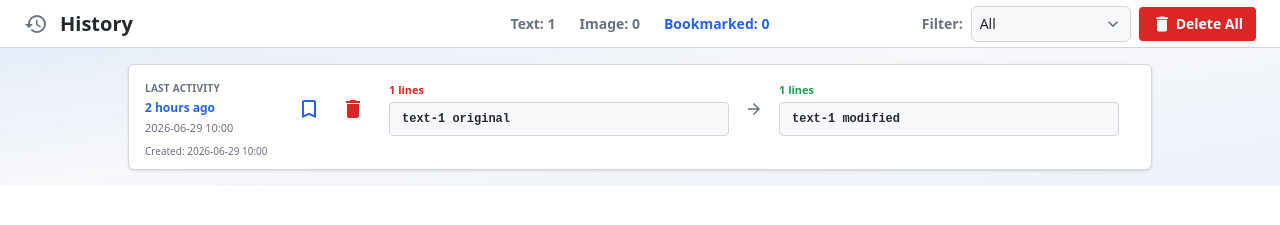
Test: HistoryView › shows a filtered empty state when there are no matching items
The image size is (1280, 225).
Step 1. Click the button "All" → (1051, 24), box left=971, top=6, right=1131, bottom=42
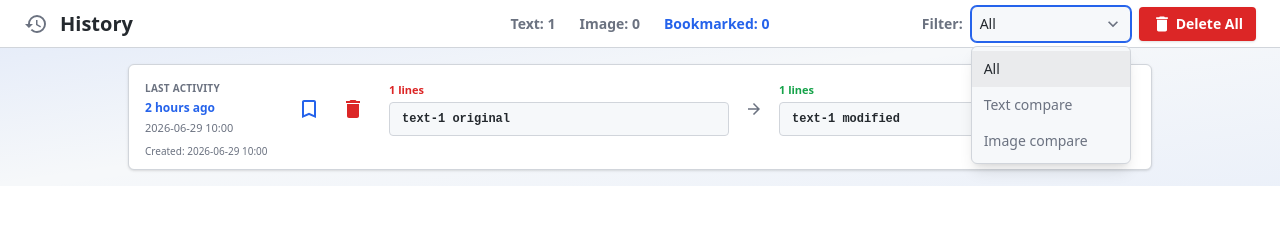
Step 2. Click the option "Image compare" → (1051, 140), box left=972, top=122, right=1130, bottom=158
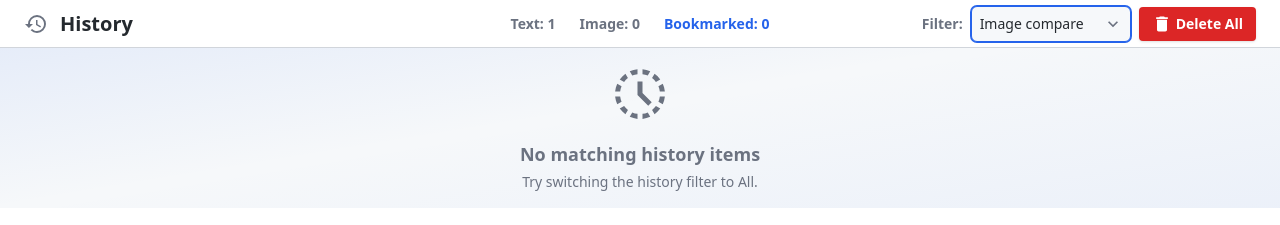
Check: the heading "No matching history items" is shown, box left=520, top=140, right=760, bottom=168
Check: the text "Try switching the history filter to All." is shown, box left=522, top=172, right=758, bottom=192
